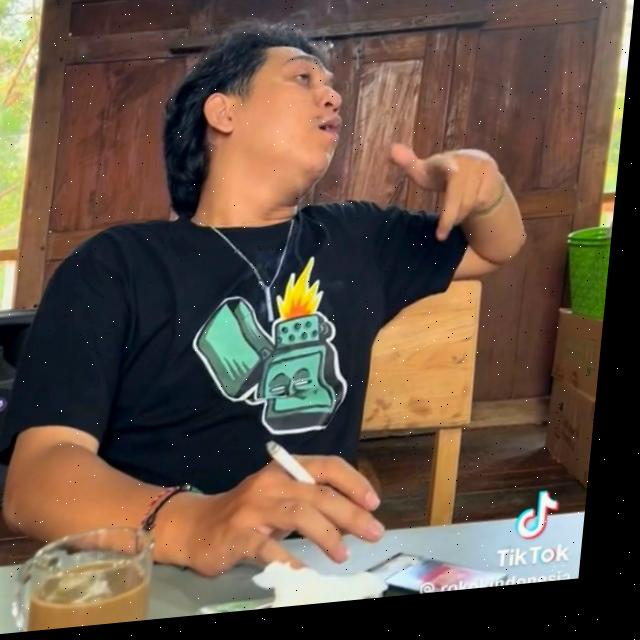cigarette: (272, 443, 331, 496)
